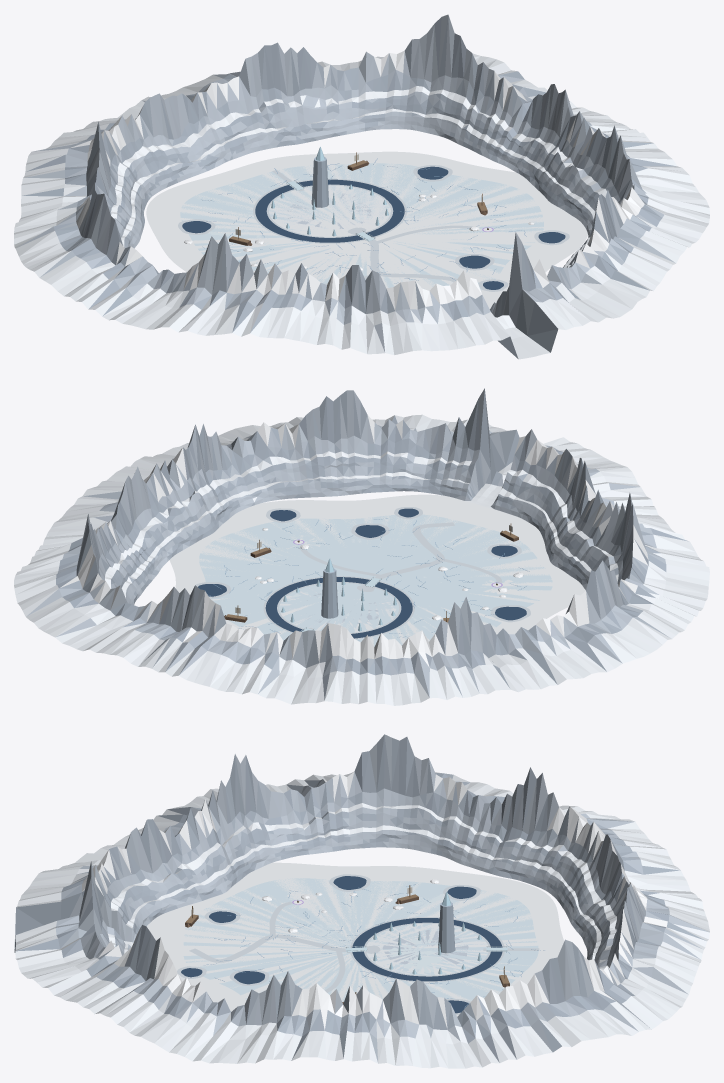
Rendered from map_fort_frost.glb.
3 views of the same model, one above another, from view 1: azimuth 30°, elevation 25°; view 2: azimuth 150°, elevation 25°; view 3: azimuth 270°, elevation 25° (orthographic). The views are drawn at different scales.
Parts seen in each view (by area): view 1: Z_fort_frost_penhascos, Z_fort_frost_chao_neve, Z_fort_frost_chao_gelo, Z_fort_frost_agua_rio_1, Z_fort_frost_chao_ilha_torre, Z_fort_frost_margem_rio_1, Z_fort_frost_torre, Z_fort_frost_estrada_travessia; view 2: Z_fort_frost_penhascos, Z_fort_frost_chao_gelo, Z_fort_frost_chao_neve, Z_fort_frost_agua_rio_1, Z_fort_frost_margem_rio_1, Z_fort_frost_estrada_travessia, Z_fort_frost_torre; view 3: Z_fort_frost_penhascos, Z_fort_frost_chao_neve, Z_fort_frost_chao_gelo, Z_fort_frost_agua_rio_1, Z_fort_frost_chao_ilha_torre, Z_fort_frost_margem_rio_1, Z_fort_frost_estrada_travessia, Z_fort_frost_chao_patio, Z_fort_frost_torre.
Boxes of the visible parts, x1,y1,x2,y2 form: Z_fort_frost_penhascos: (14,14,709,359); Z_fort_frost_chao_neve: (146,151,587,308); Z_fort_frost_chao_gelo: (180,163,543,290); Z_fort_frost_agua_rio_1: (255,179,404,242); Z_fort_frost_chao_ilha_torre: (269,185,387,236); Z_fort_frost_margem_rio_1: (253,178,406,243); Z_fort_frost_torre: (311,157,328,207); Z_fort_frost_estrada_travessia: (354,230,457,282); Z_fort_frost_penhascos: (14,388,709,705); Z_fort_frost_chao_gelo: (199,514,552,646); Z_fort_frost_chao_neve: (169,494,585,645); Z_fort_frost_agua_rio_1: (265,577,412,638); Z_fort_frost_margem_rio_1: (263,576,414,639); Z_fort_frost_estrada_travessia: (363,522,454,588); Z_fort_frost_torre: (321,568,338,618); Z_fort_frost_penhascos: (14,734,709,1068); Z_fort_frost_chao_neve: (146,862,563,1016); Z_fort_frost_chao_gelo: (183,878,538,1001); Z_fort_frost_agua_rio_1: (352,918,502,981); Z_fort_frost_chao_ilha_torre: (366,924,487,975); Z_fort_frost_margem_rio_1: (350,917,504,982); Z_fort_frost_estrada_travessia: (189,934,371,962); Z_fort_frost_chao_patio: (382,930,468,965); Z_fort_frost_torre: (438,902,455,953).
Size of the model in its own units: 362 by 59.75 by 360.
